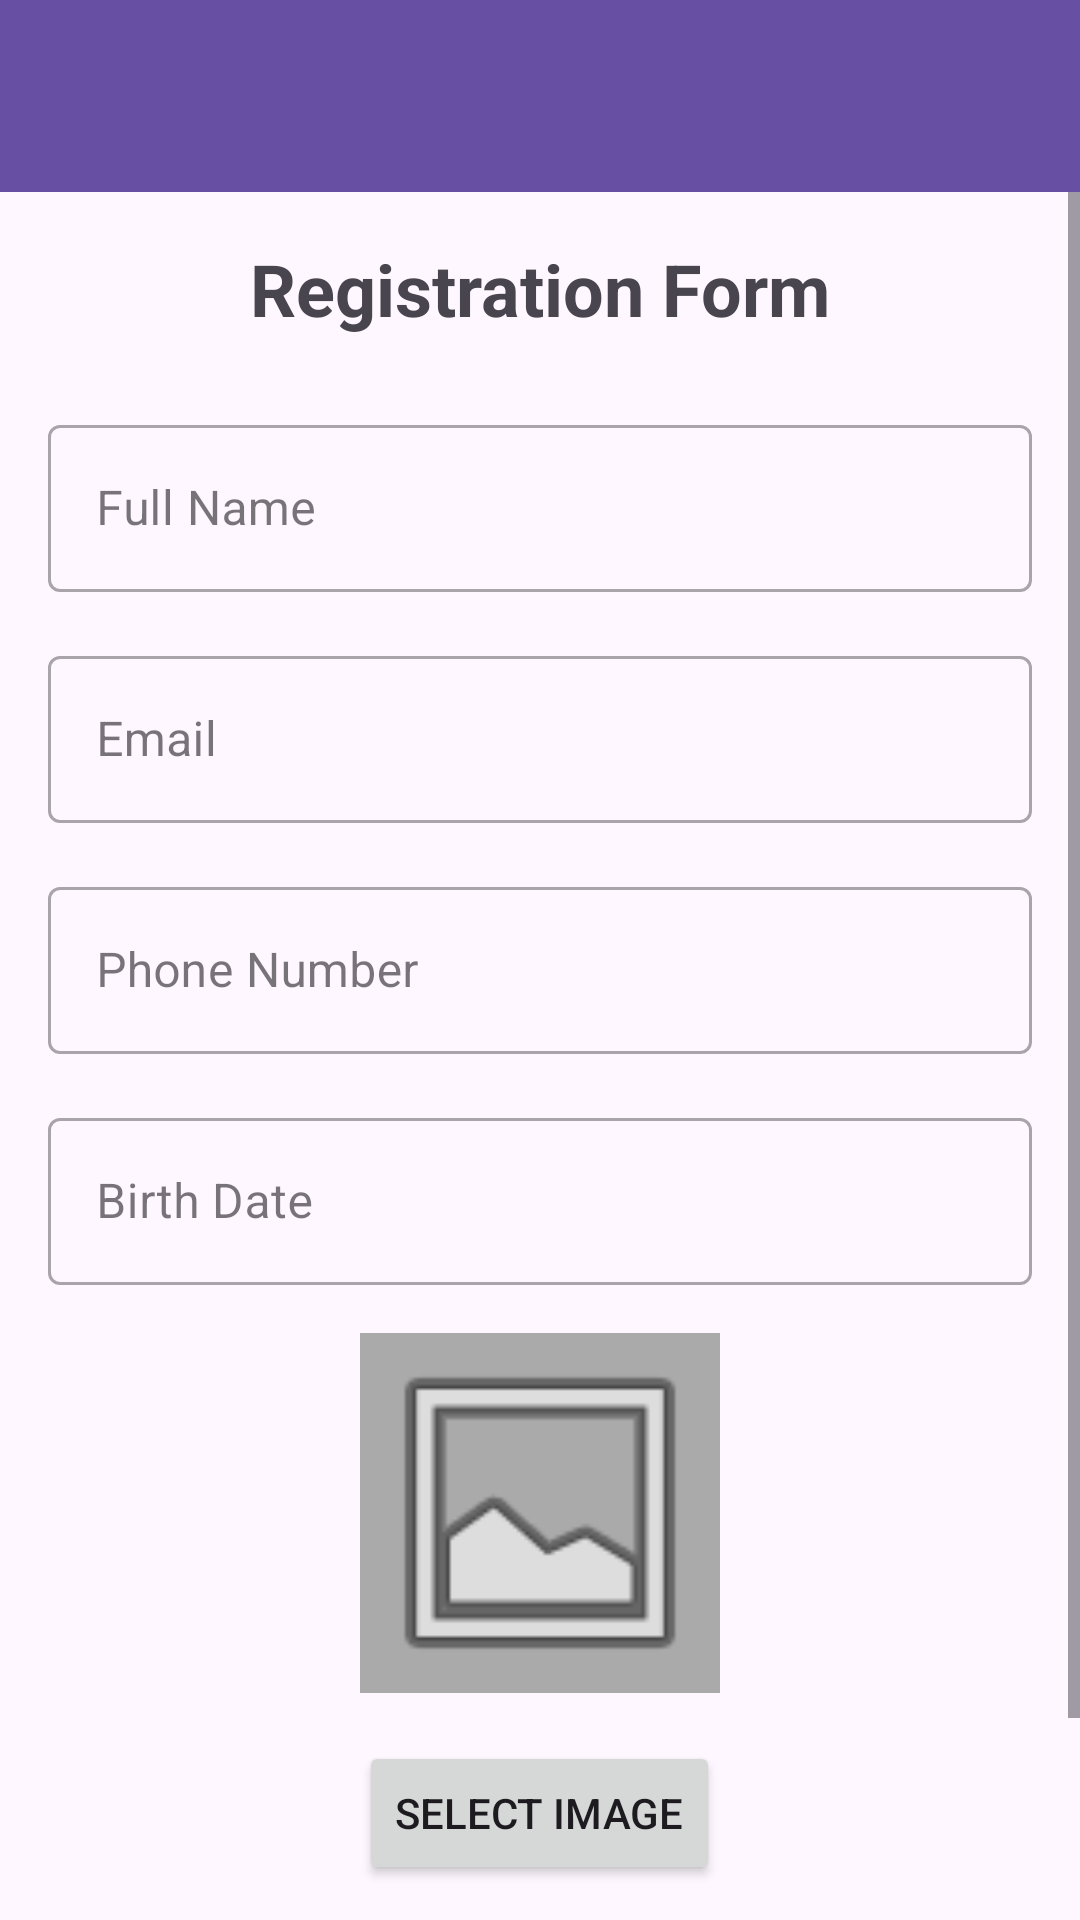

Icons on this 1080x1920 Android screen, each with the point to tap as [x,y]:
gallery: [540,1513]
